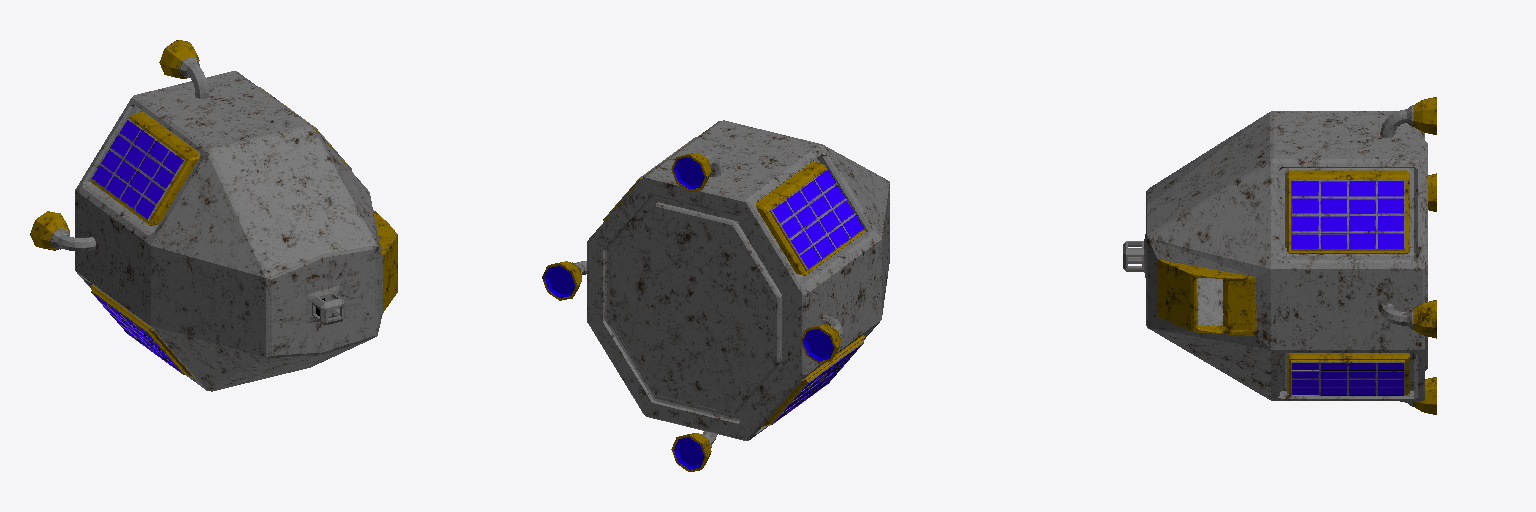
3 views of the same model, side by side, from view 1: azimuth 30°, elevation 25°; view 2: azimuth 150°, elevation 25°; view 3: azimuth 270°, elevation 25° (orthographic).
Parts seen in each view (by area): view 1: Satellite_export_Plane.005; view 2: Satellite_export_Plane.005; view 3: Satellite_export_Plane.005.
Boxes of the visible parts, box(x1,y1,x2,y2) form: Satellite_export_Plane.005: box(30, 40, 397, 391); Satellite_export_Plane.005: box(542, 120, 889, 471); Satellite_export_Plane.005: box(1123, 97, 1436, 414).
Bounding box in the file's own units: 1.08 × 1.11 × 0.9965.
1 materials, 1 textured.